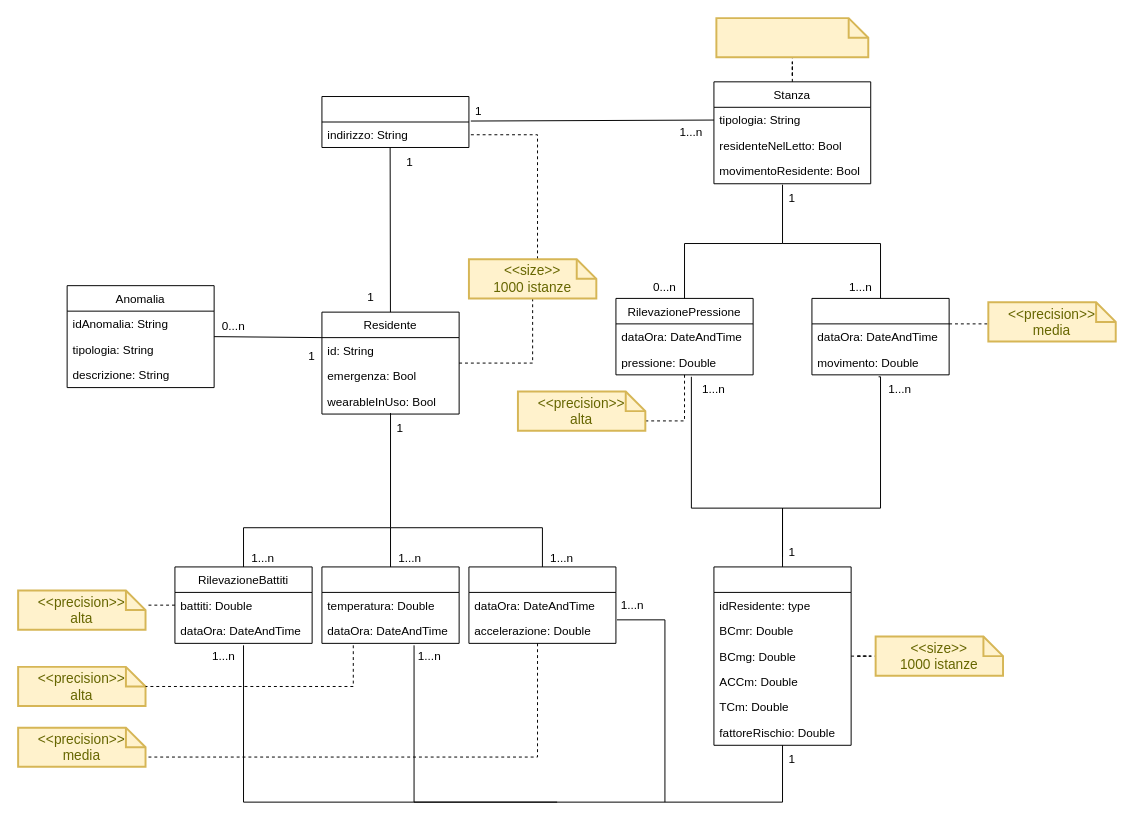
Some shapes in this 1133 by 820 pixel diagram are drawn without their labels. Each missing label, with the box of its shape:
<<size>> massimo 5000 istanze: (715, 17, 869, 58)
Appartamento: (321, 96, 469, 147)
Misurazioni: (713, 566, 851, 745)
RilevazioneAccelerazione: (468, 566, 616, 643)
RilevazioneTemperatura: (321, 566, 459, 643)
RilevazioniMovimento: (811, 297, 949, 375)
